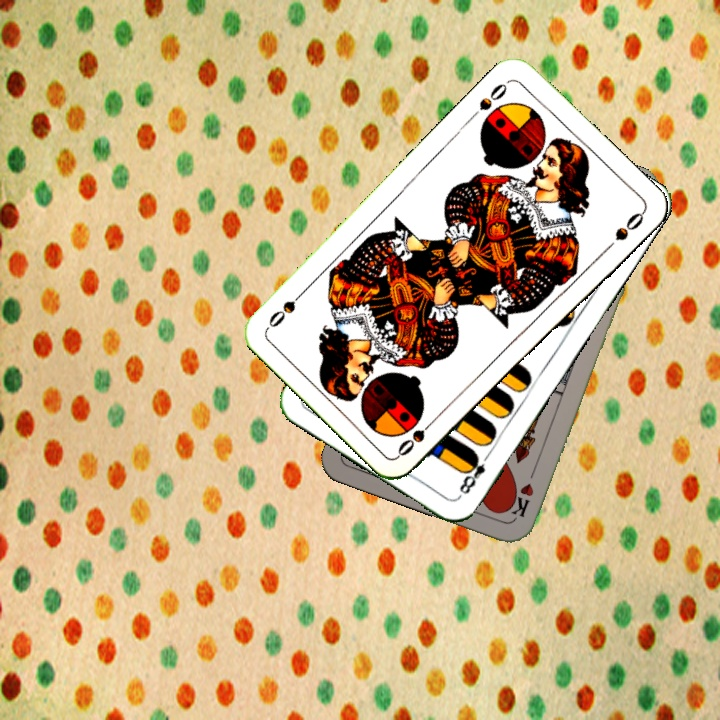E8: (454, 448, 493, 500)
HK: (507, 463, 539, 520)
SO: (393, 412, 440, 459), (475, 76, 512, 114)
